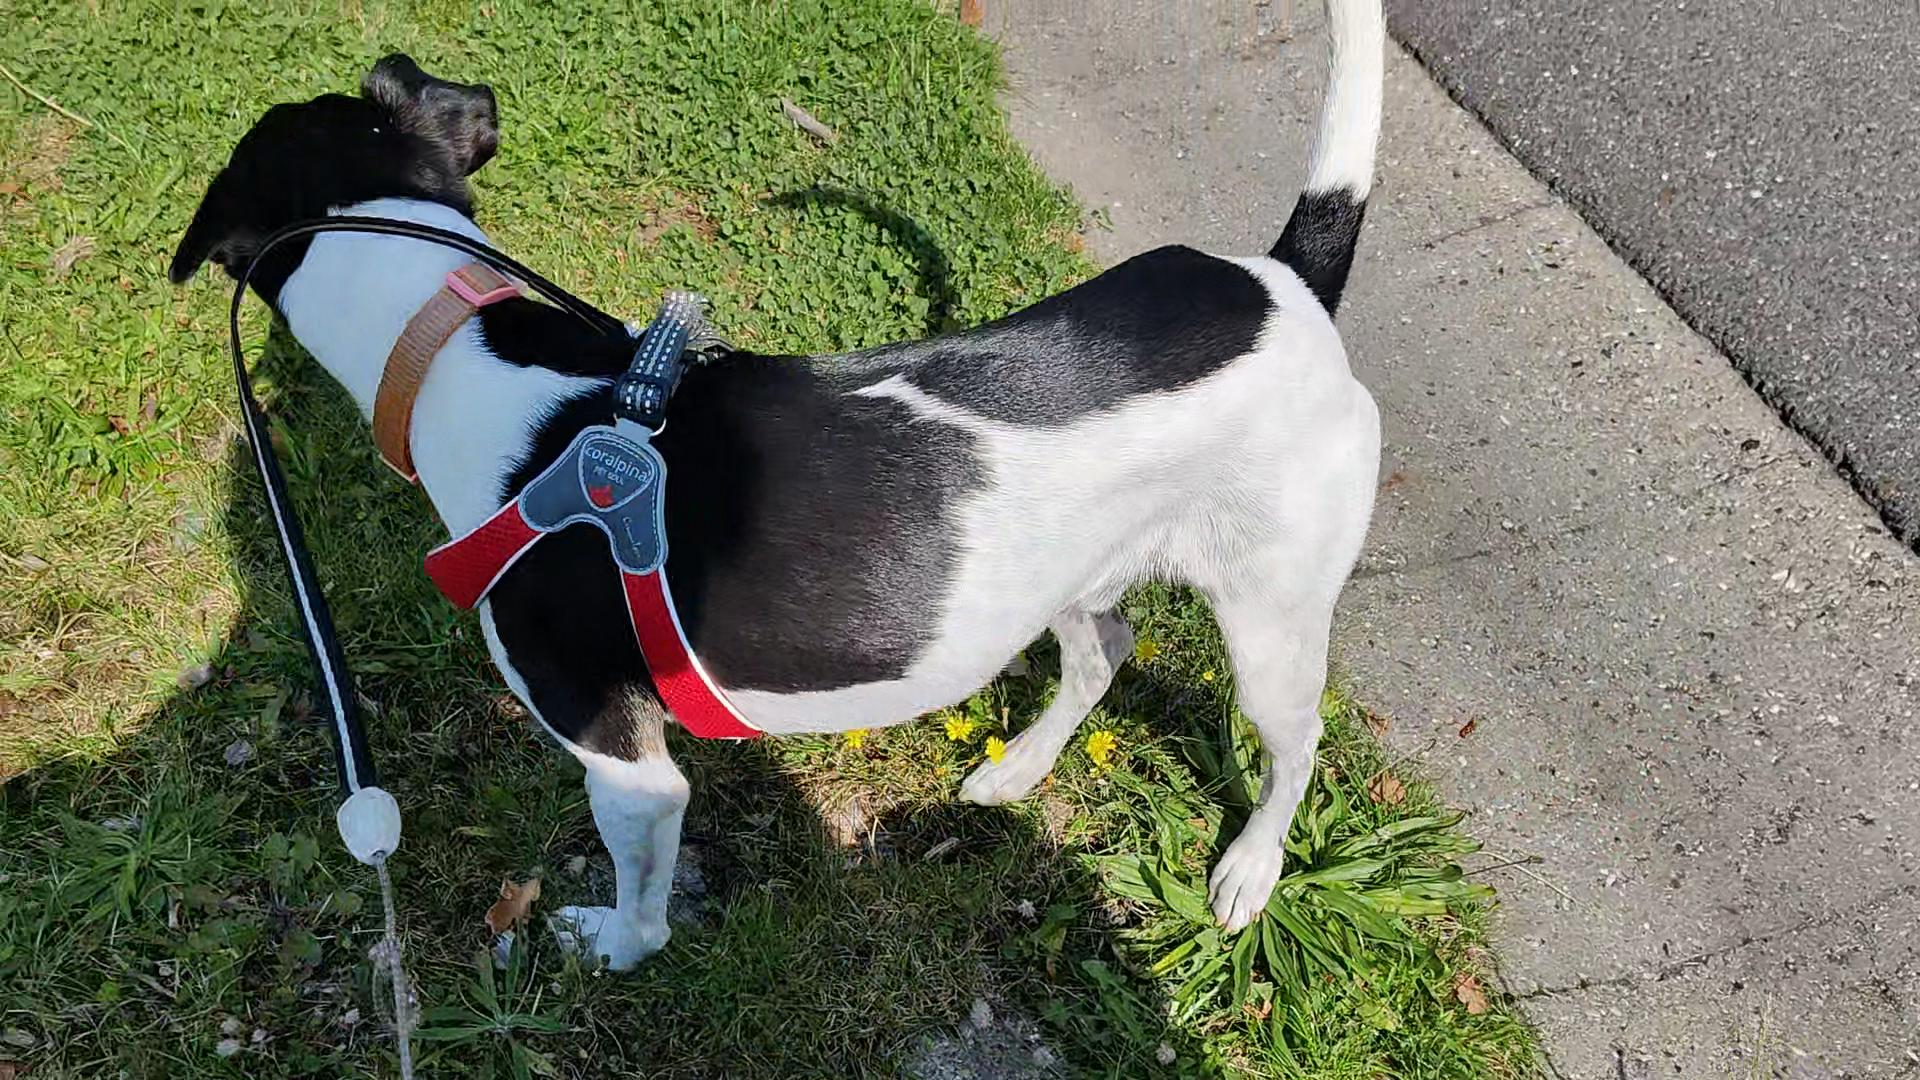Dog: (166, 0, 1391, 976)
